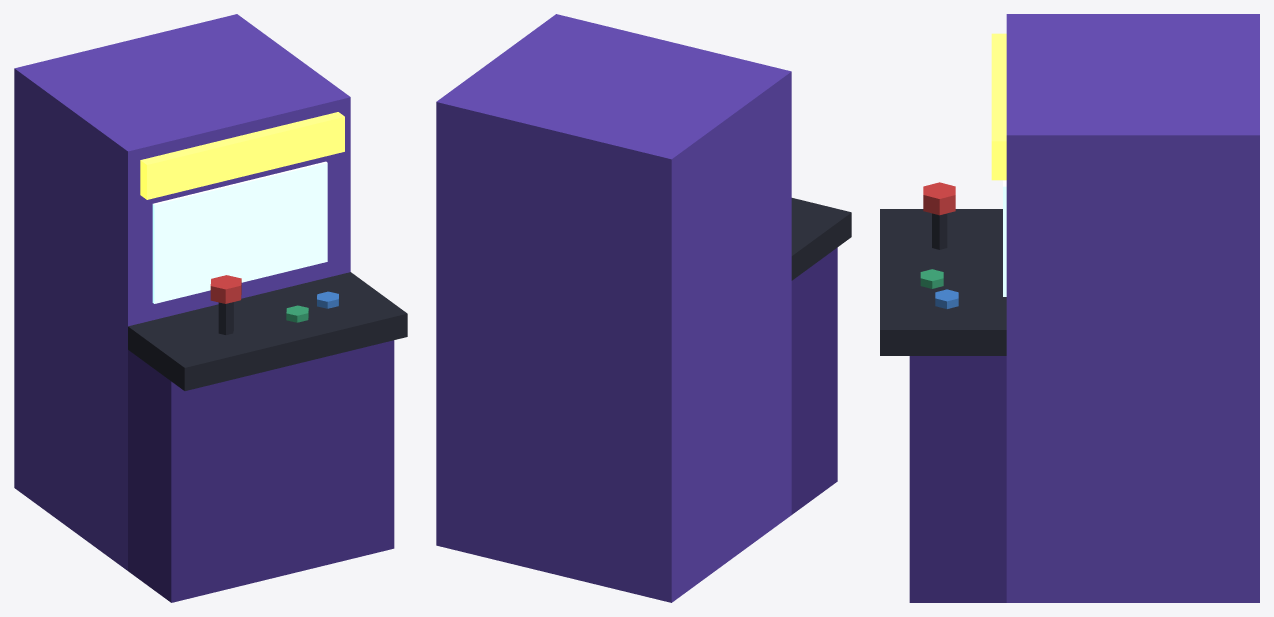
The model's file is arcade-machine.glb.
3 renders of one model, left to right at view 1: azimuth 30°, elevation 25°; view 2: azimuth 150°, elevation 25°; view 3: azimuth 270°, elevation 25°, orthographic. The views are drawn at different scales.
Parts seen in each view (by area): view 1: arcade-machine; view 2: arcade-machine; view 3: arcade-machine.
Boxes of the visible parts, x1,y1,x2,y2 form: arcade-machine: (14,14,407,602); arcade-machine: (436,14,851,602); arcade-machine: (880,14,1259,602).
Bounding box in the file's own units: 0.4 × 0.72 × 0.53.
Materials: 1 (1 with a texture image).
